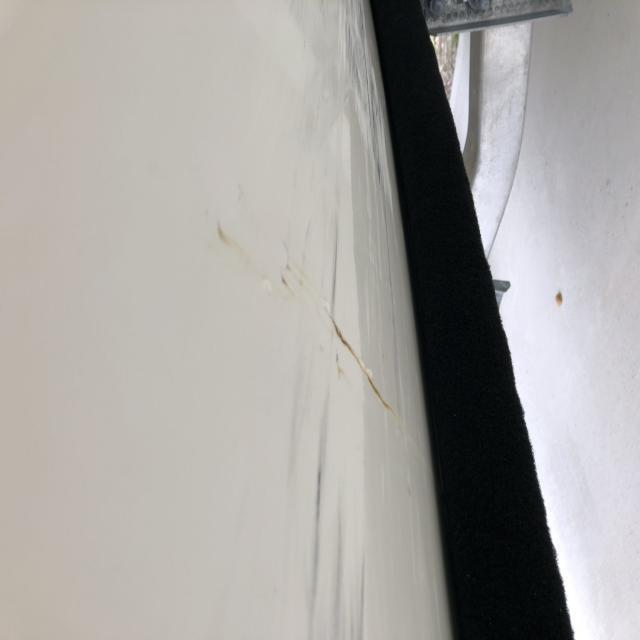Crack: (312, 284, 403, 426)
